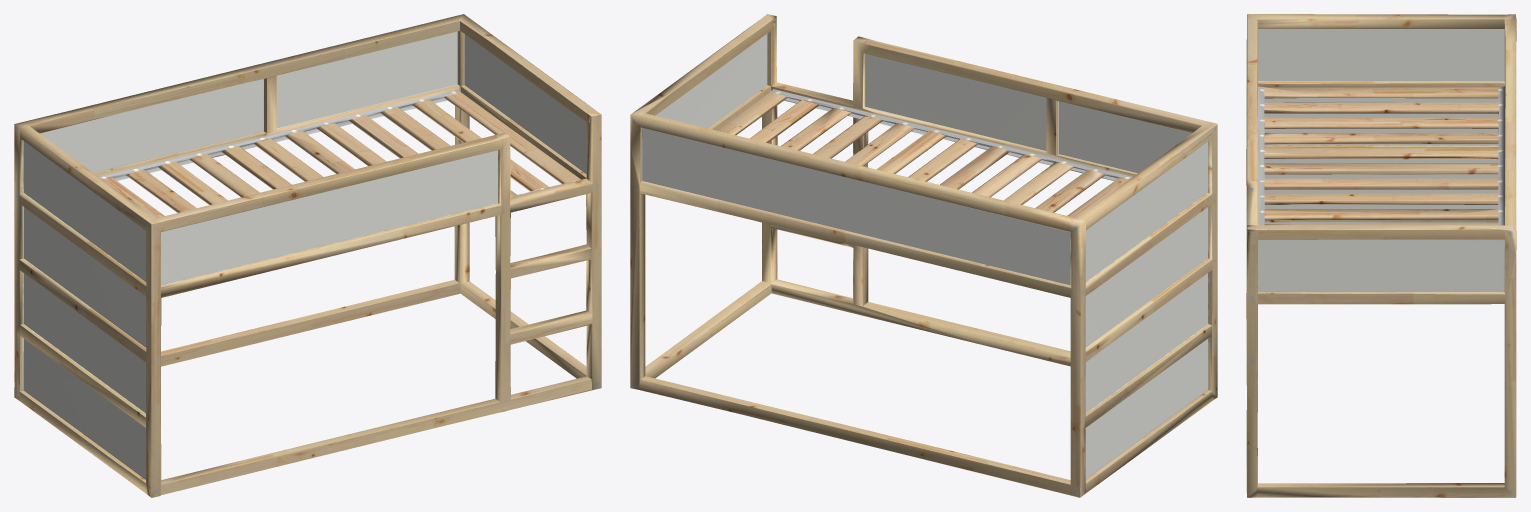
File: KURA_80253814.glb
3 views of the same model, side by side, from view 1: azimuth 30°, elevation 25°; view 2: azimuth 150°, elevation 25°; view 3: azimuth 270°, elevation 25° (orthographic). The views are drawn at different scales.
Parts seen in each view (by area): view 1: ProcessedMeshNode; view 2: ProcessedMeshNode; view 3: ProcessedMeshNode.
Part boxes in pixels (bbox=[...]): ProcessedMeshNode: bbox=[14, 14, 601, 497]; ProcessedMeshNode: bbox=[630, 14, 1217, 497]; ProcessedMeshNode: bbox=[1246, 14, 1516, 497].
Bounding box in the file's own units: 1.99 × 1.16 × 1.05.
1 material, 1 textured.
